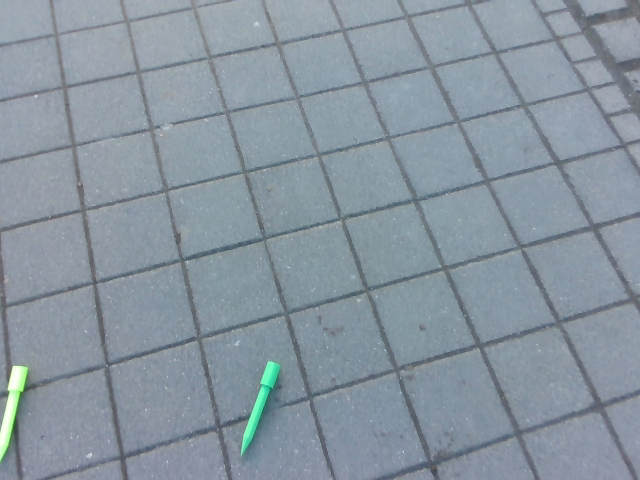Probe: (238, 352, 287, 466), (1, 361, 33, 465)
